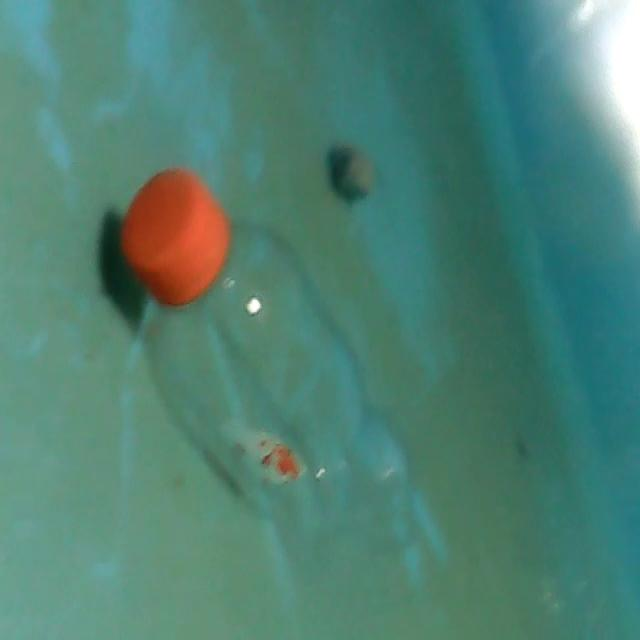plastic bottle: (113, 158, 436, 574)
